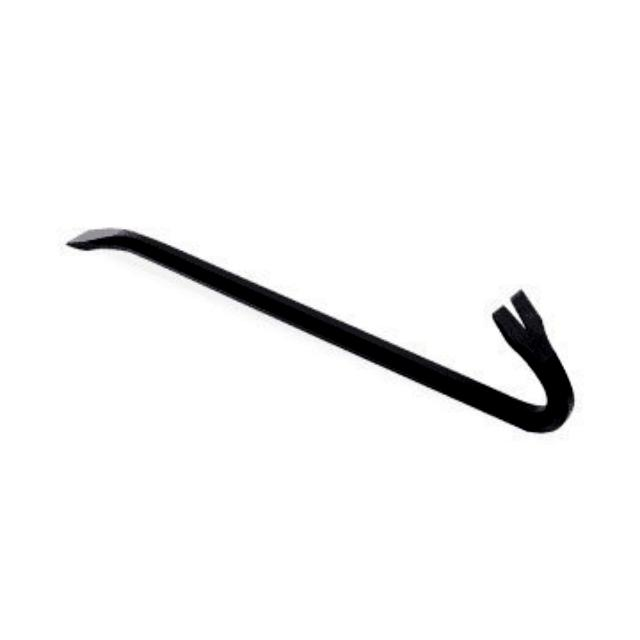crow bar: (73, 222, 579, 443)
